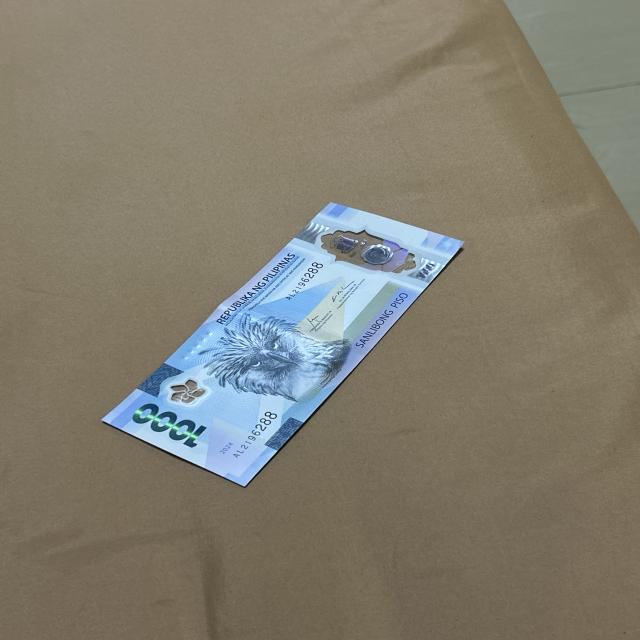clear_window: (318, 222, 424, 274)
eagle: (205, 317, 333, 394)
sampaguita: (164, 378, 209, 407)
serial_number: (225, 405, 273, 464), (276, 256, 323, 309)
